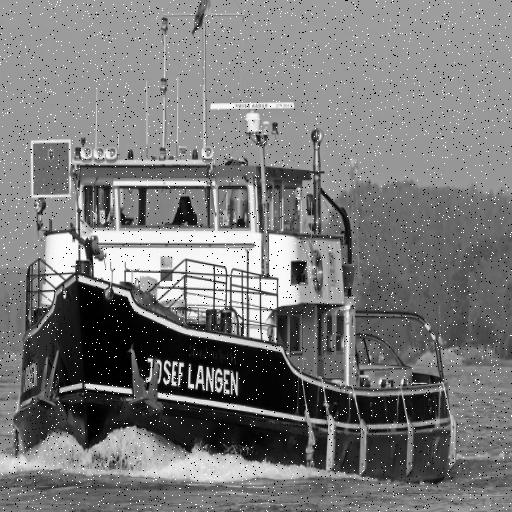tugboat: (9, 1, 465, 496)
